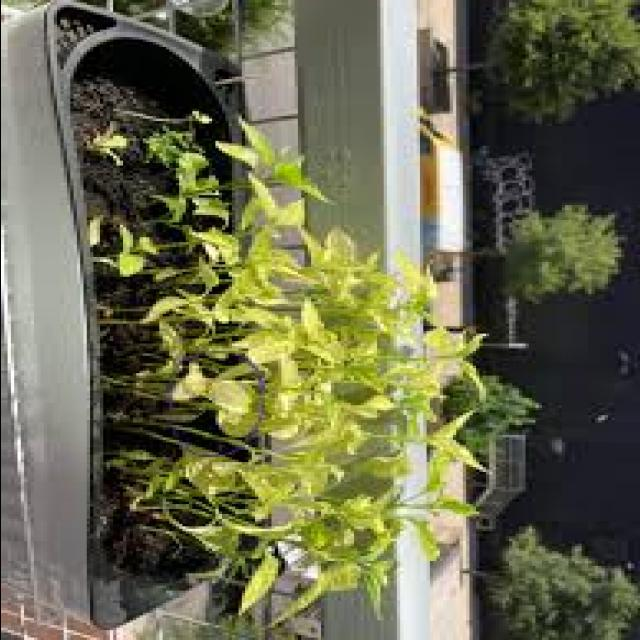virus_kuning: (238, 554, 282, 614), (430, 408, 478, 442), (110, 246, 148, 276)
